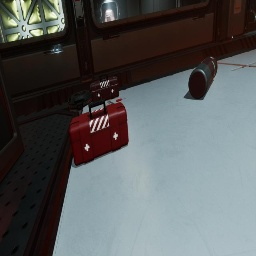FireAlarm ,: (75, 0, 80, 2)
FirstAidBox ,: (69, 98, 129, 166), (90, 72, 119, 102)
NitrogenTank ,: (188, 56, 218, 99)
SafetySwitchPanel ,: (231, 0, 242, 14)
